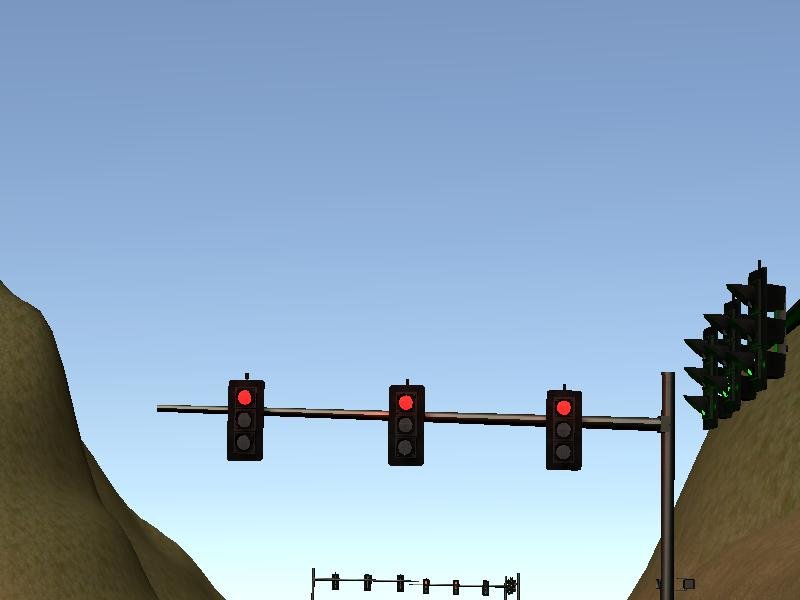red: (227, 378, 265, 462), (386, 382, 424, 466), (544, 387, 582, 471)
